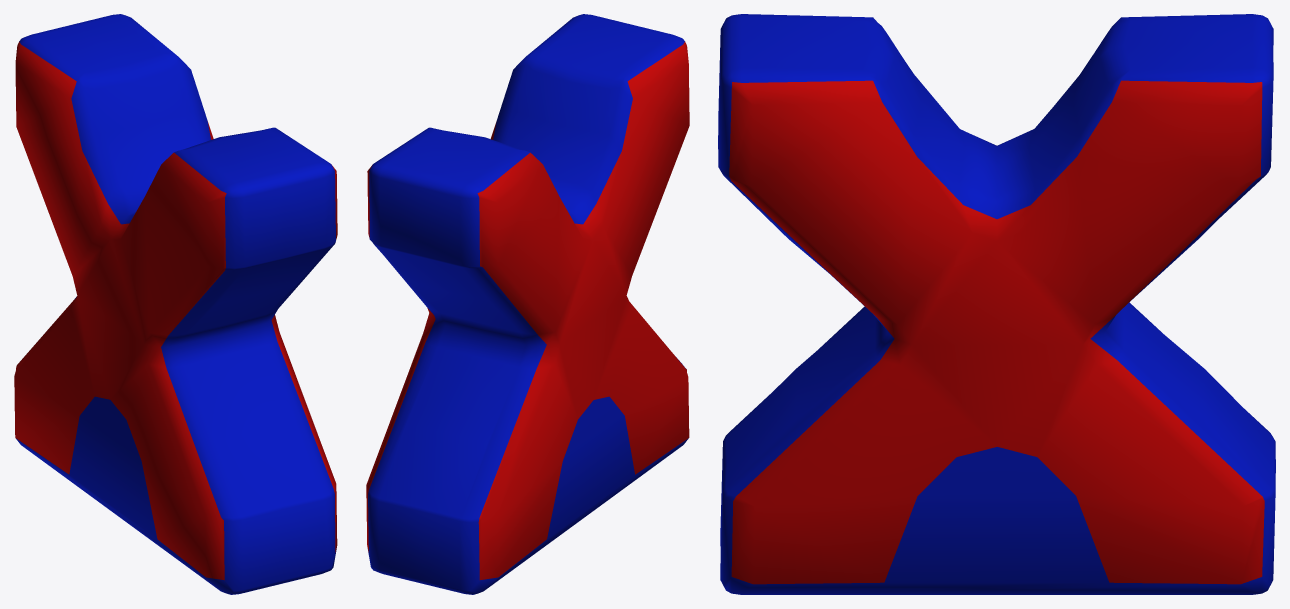
File: Mini-X-Webview.glb
3 renders of one model, left to right at view 1: azimuth 30°, elevation 25°; view 2: azimuth 150°, elevation 25°; view 3: azimuth 270°, elevation 25°, orthographic. The views are drawn at different scales.
Visible parts, largest first — view 1: Mini-X; view 2: Mini-X; view 3: Mini-X.
Part boxes in pixels (bbox=[...]): Mini-X: bbox=[14, 14, 337, 594]; Mini-X: bbox=[366, 14, 689, 594]; Mini-X: bbox=[718, 14, 1275, 594].
Bounding box in the file's own units: 0.5715 × 1.71 × 1.65.
